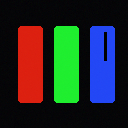4 line_v: (104, 32, 106, 60)
